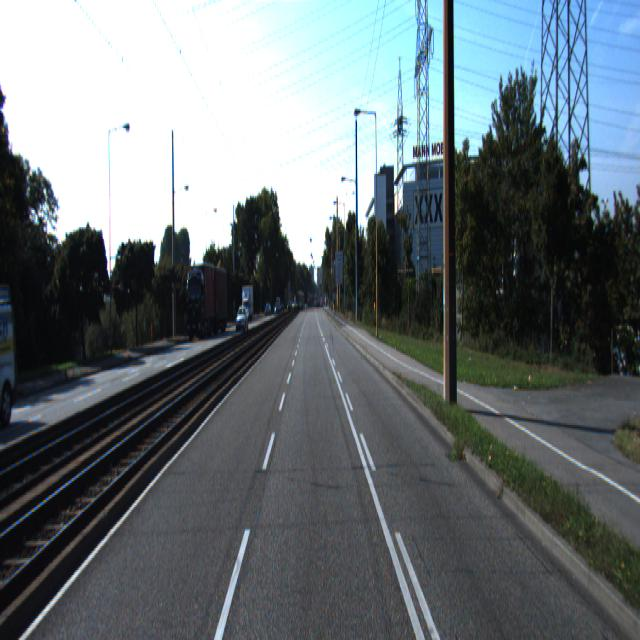Car: (0, 294, 25, 434), (235, 306, 249, 334)
